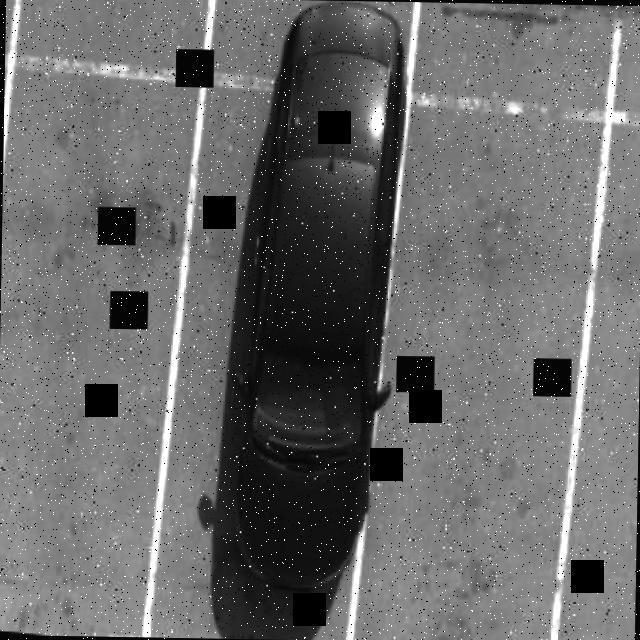car: (212, 0, 440, 633)
free: (378, 107, 601, 640), (0, 67, 204, 632), (566, 127, 640, 640)
